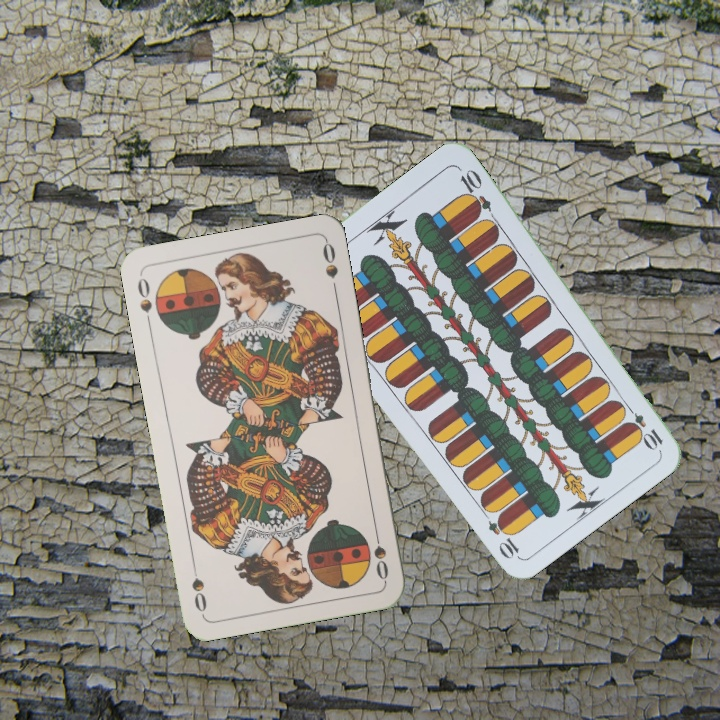E10: (620, 400, 666, 452)
SO: (133, 273, 155, 330), (370, 524, 391, 583)
